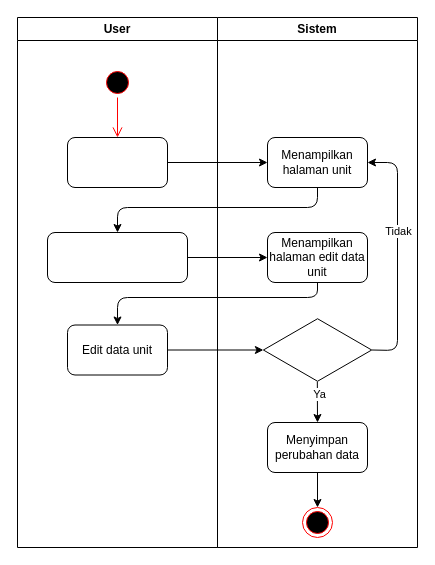
This 435x565 diagram has some shape labels left out. The shapes that lost their labels are listed below. From the top down, each one's centre as x and y in pixels, then its label:
point (117, 162): Pilih fitur unit
point (117, 257): Pilih salah satu tombol edit pada kolom aksi (icon pen)
point (317, 349): Validasi data
